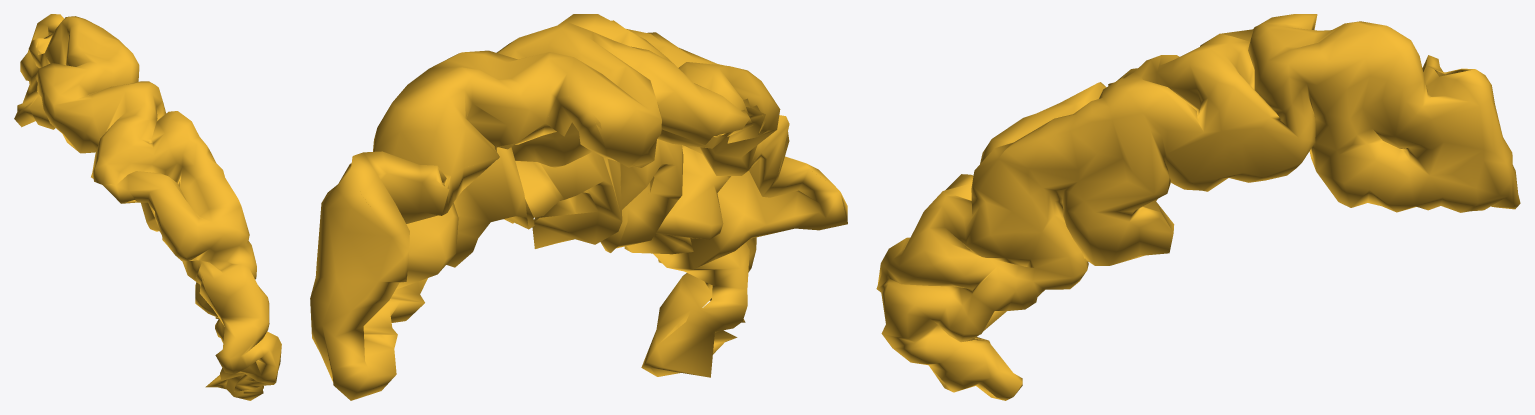
File: nervoso-superior-frontal-gyrus-r.glb
The picture shows the model from 3 angles, left to right: view 1: azimuth 30°, elevation 25°; view 2: azimuth 150°, elevation 25°; view 3: azimuth 270°, elevation 25°; orthographic projection. The views are drawn at different scales.
Visible parts, largest first — view 1: Superior frontal gyrus.r; view 2: Superior frontal gyrus.r; view 3: Superior frontal gyrus.r.
Part boxes in pixels (box(x1,y1,x2,y2)): Superior frontal gyrus.r: box(14, 14, 281, 400); Superior frontal gyrus.r: box(310, 14, 847, 400); Superior frontal gyrus.r: box(876, 14, 1520, 400).
Size of the model in its own units: 0.0281 by 0.0711 by 0.1146.
